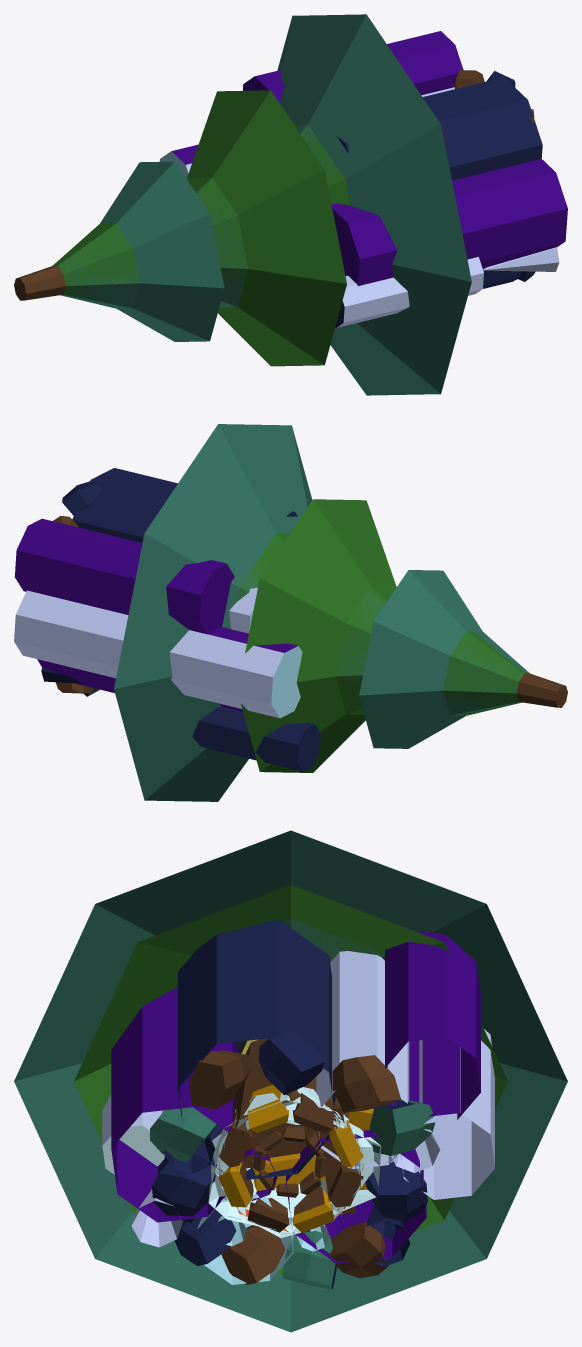
Rendered from Asset-kit2.fbx.
3 views of the same model, one above another, from view 1: azimuth 30°, elevation 25°; view 2: azimuth 150°, elevation 25°; view 3: azimuth 270°, elevation 25° (orthographic). The views are drawn at different scales.
Parts seen in each view (by area): view 1: Ёлка2, Глыба, Ёлка1, Сасульки, Кольцо костра; view 2: Ёлка2, Глыба, Ёлка1, Кольцо костра; view 3: Ёлка2, Глыба, Кольцо костра, Ёлка1, Костёр1, Сасульки, Костёр2, СугробоГлыба5, СугробоГлыба0, СугробоГлыба3, СугробоГлыба2, СугробоГлыба6.
Boxes of the visible parts, bbox=[...] form: Ёлка2: bbox=[55, 14, 471, 395]; Глыба: bbox=[159, 31, 567, 327]; Ёлка1: bbox=[14, 124, 350, 307]; Сасульки: bbox=[483, 247, 559, 271]; Кольцо костра: bbox=[454, 70, 535, 281]; Ёлка2: bbox=[114, 424, 529, 801]; Глыба: bbox=[14, 468, 320, 771]; Ёлка1: bbox=[237, 533, 567, 715]; Кольцо костра: bbox=[53, 481, 101, 696]; Ёлка2: bbox=[14, 830, 567, 1332]; Глыба: bbox=[102, 920, 494, 1284]; Кольцо костра: bbox=[150, 1030, 435, 1289]; Ёлка1: bbox=[74, 885, 507, 1274]; Костёр1: bbox=[218, 1084, 363, 1232]; Сасульки: bbox=[131, 1129, 440, 1266]; Костёр2: bbox=[241, 1102, 373, 1214]; СугробоГлыба5: bbox=[211, 1120, 381, 1238]; СугробоГлыба0: bbox=[208, 1101, 354, 1233]; СугробоГлыба3: bbox=[221, 1087, 360, 1218]; СугробоГлыба2: bbox=[215, 1109, 384, 1212]; СугробоГлыба6: bbox=[223, 1093, 361, 1225].
Bounding box in the file's own units: 7.59 × 7.59 × 10.41.
